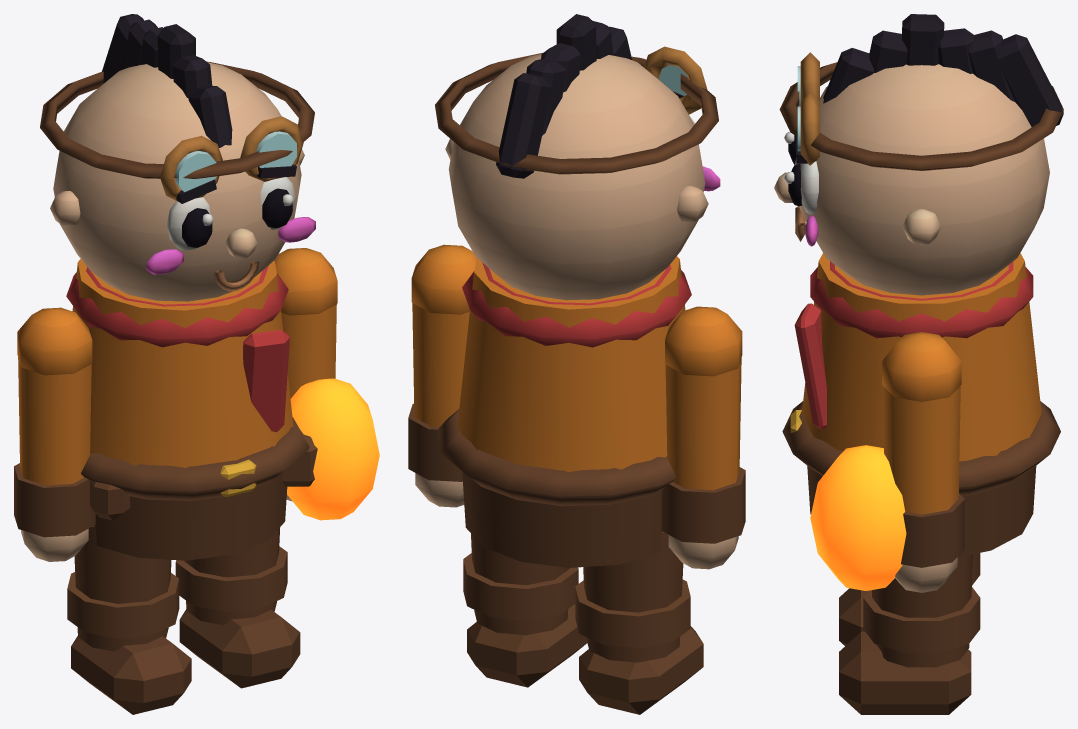
File: hero_hurl.glb
3 renders of one model, left to right at view 1: azimuth 30°, elevation 25°; view 2: azimuth 150°, elevation 25°; view 3: azimuth 270°, elevation 25°, orthographic. The views are drawn at different scales.
Parts seen in each view (by area): view 1: body_t0_palette, arml_t0_palette, legl_t0_palette, legr_t0_palette, armr_t0_fire, armr_t0_palette; view 2: body_t0_palette, arml_t0_palette, legl_t0_palette, legr_t0_palette, armr_t0_palette; view 3: body_t0_palette, armr_t0_palette, legr_t0_palette, armr_t0_fire, legl_t0_palette.
Boxes of the visible parts, bbox=[...] form: body_t0_palette: bbox=[40, 14, 317, 560]; arml_t0_palette: bbox=[14, 307, 95, 561]; legl_t0_palette: bbox=[67, 526, 191, 714]; legr_t0_palette: bbox=[175, 527, 300, 688]; armr_t0_fire: bbox=[287, 378, 379, 520]; armr_t0_palette: bbox=[274, 248, 337, 501]; body_t0_palette: bbox=[435, 14, 720, 567]; arml_t0_palette: bbox=[661, 306, 745, 569]; legl_t0_palette: bbox=[575, 532, 703, 714]; legr_t0_palette: bbox=[463, 533, 587, 687]; armr_t0_palette: bbox=[408, 244, 476, 507]; body_t0_palette: bbox=[774, 14, 1063, 557]; armr_t0_palette: bbox=[882, 332, 964, 592]; legr_t0_palette: bbox=[839, 554, 980, 714]; armr_t0_fire: bbox=[810, 445, 906, 590]; legl_t0_palette: bbox=[839, 553, 980, 645].
Size of the model in its own units: 0.279 by 0.5233 by 0.208.
